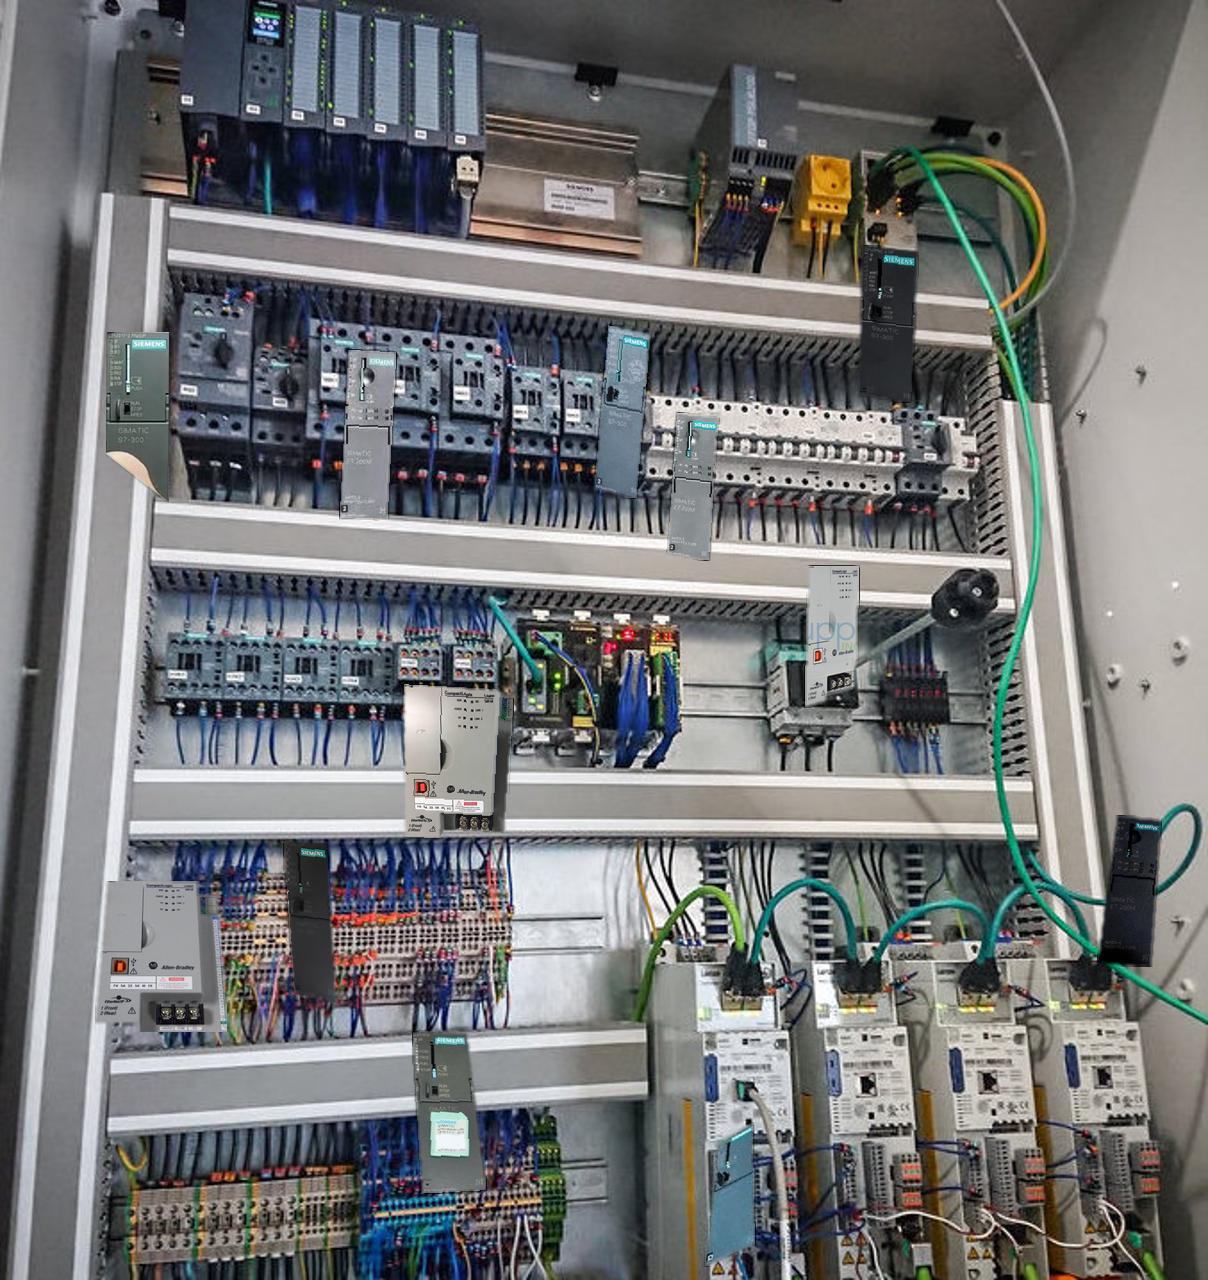AllenBradley: (95, 881, 226, 1031), (404, 684, 513, 837), (805, 566, 858, 706)
Siemens: (413, 1032, 485, 1193), (106, 332, 168, 501), (595, 325, 649, 497), (859, 246, 917, 401), (283, 840, 335, 999), (705, 1123, 754, 1265)
